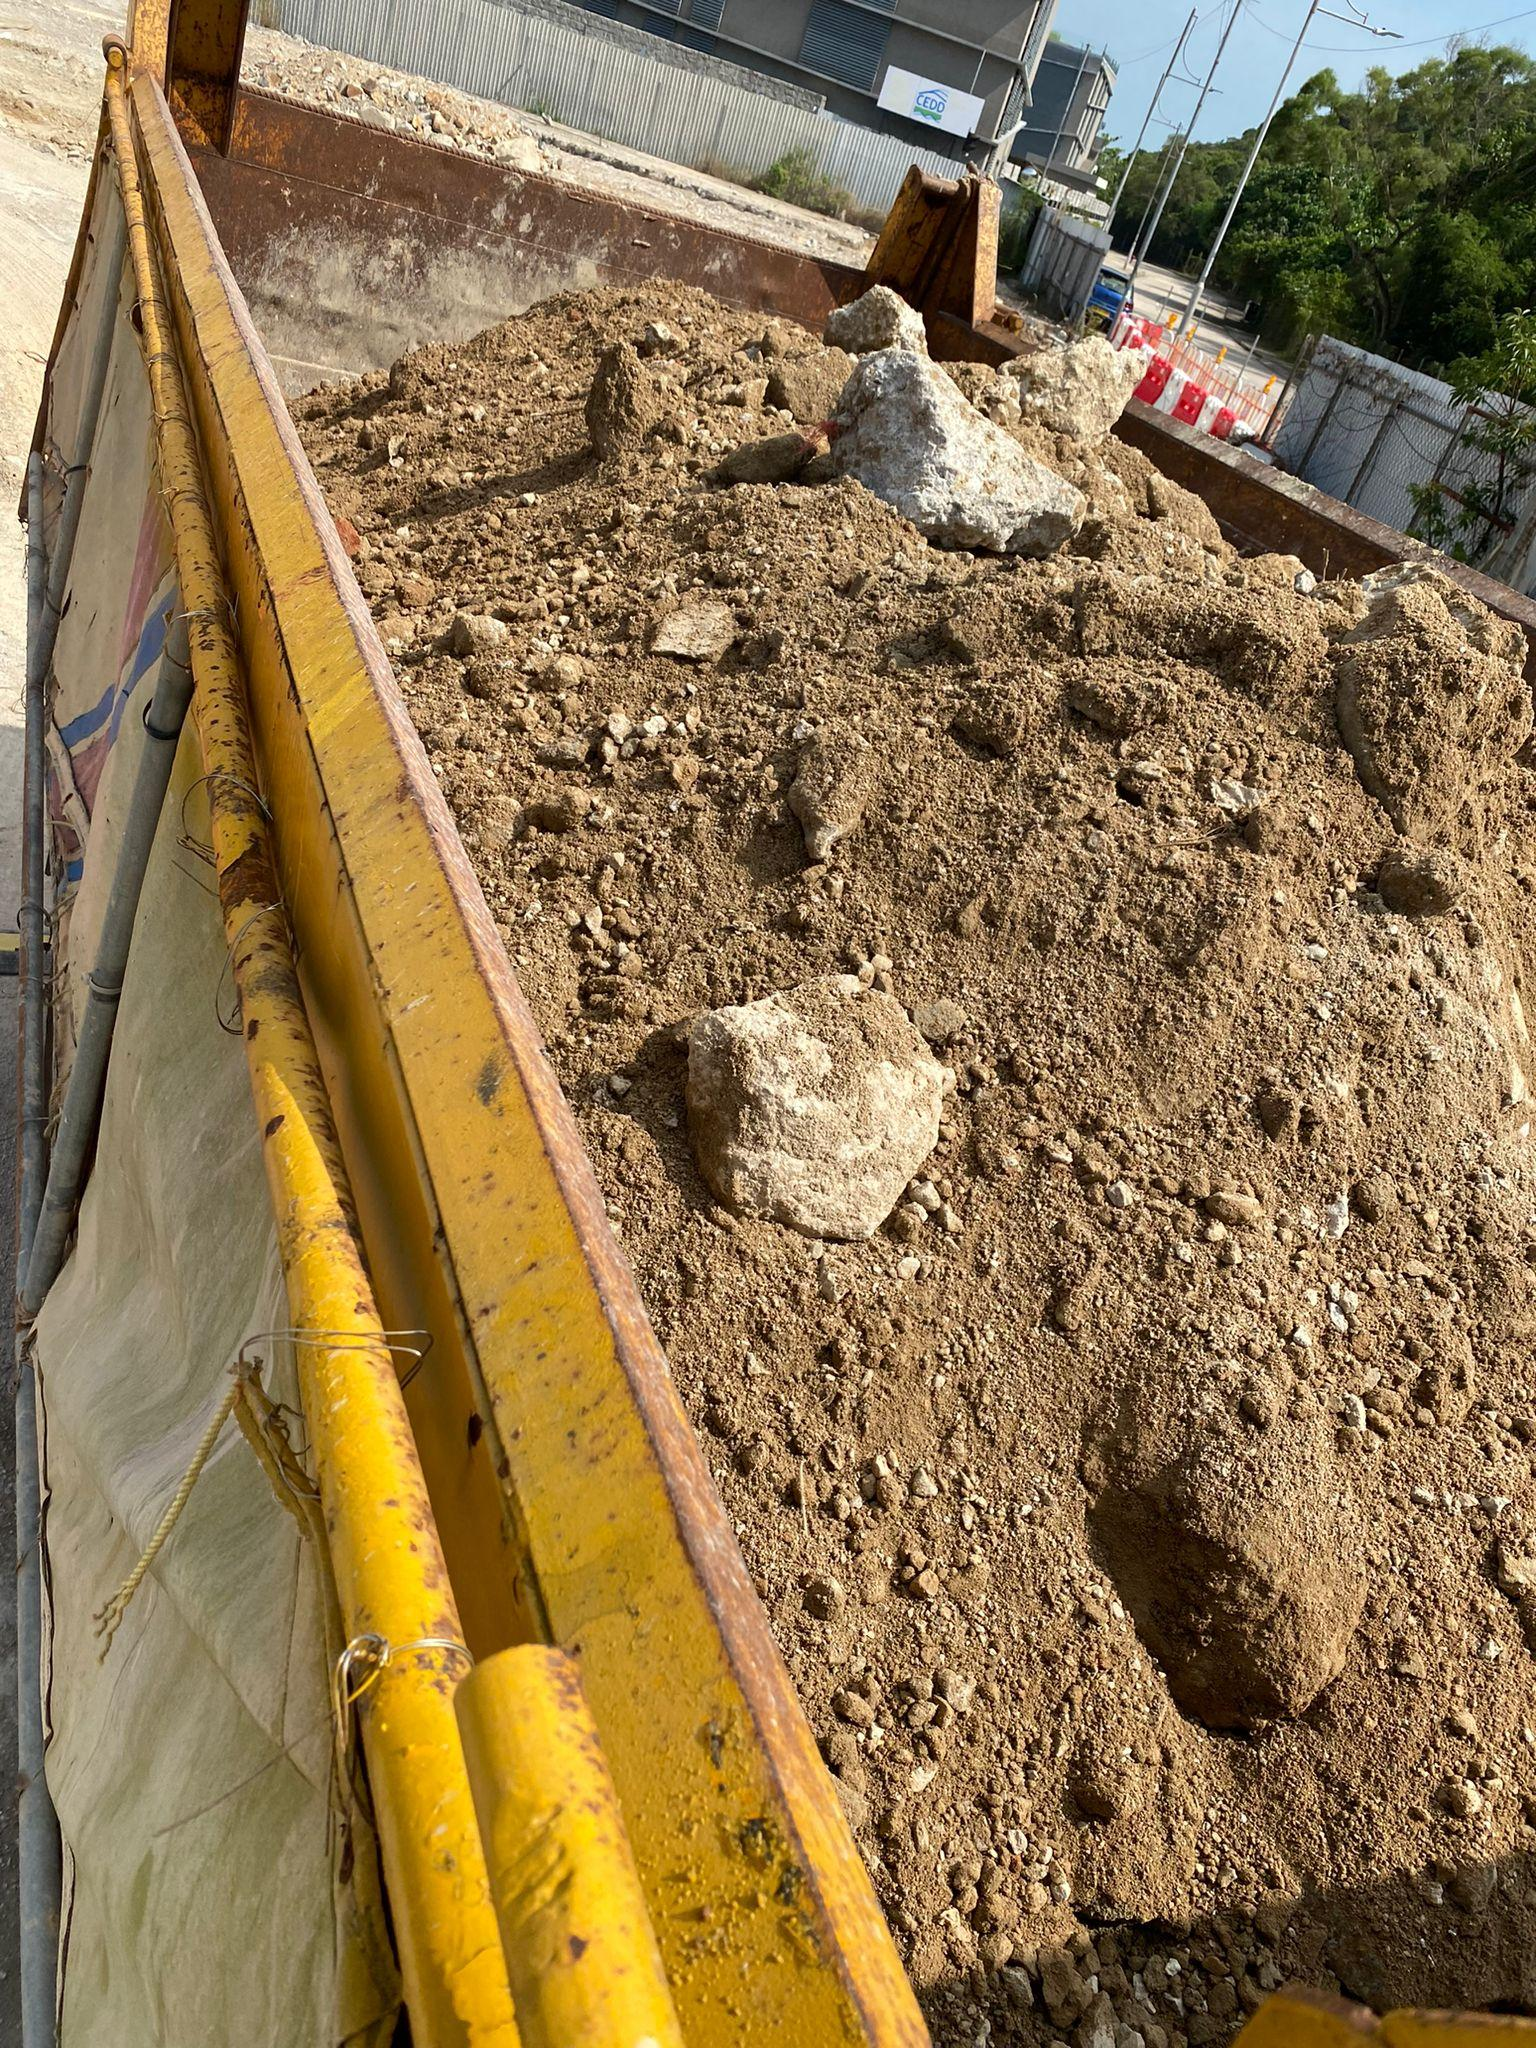dry: (663, 447, 1233, 1340)
